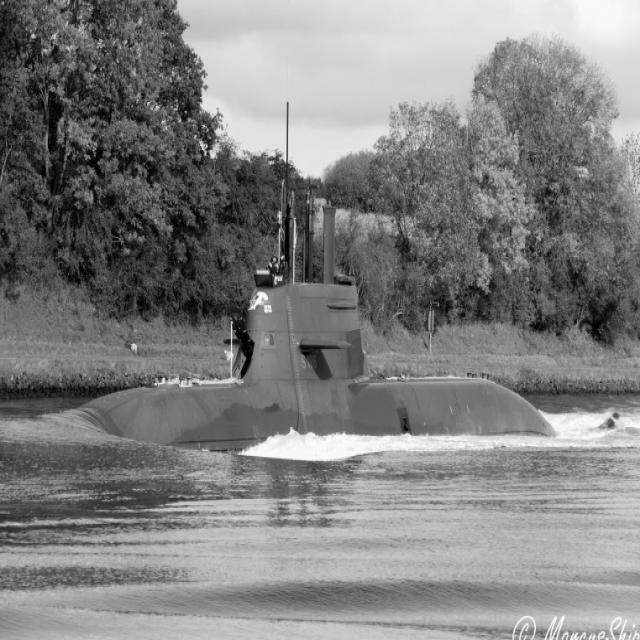submarine: (63, 190, 557, 443)
